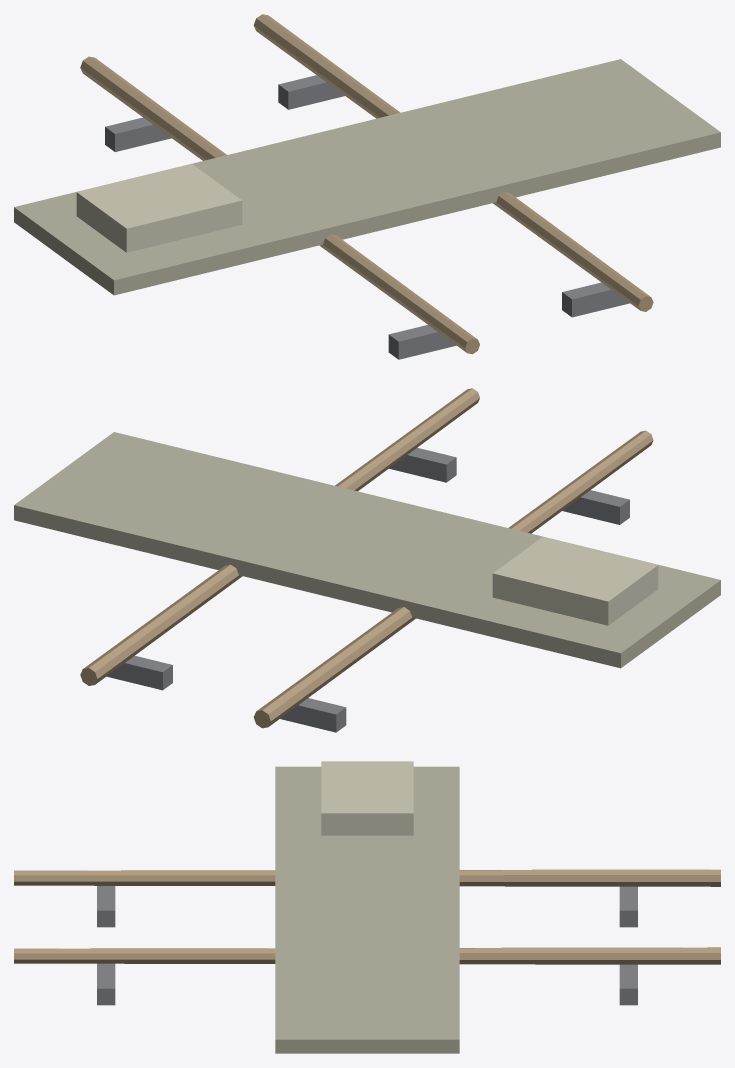
The model's file is armoured-column-and-field-camp-stretcher-8782668f__23727.glb.
3 renders of one model, top to bottom at view 1: azimuth 30°, elevation 25°; view 2: azimuth 150°, elevation 25°; view 3: azimuth 270°, elevation 25°, orthographic. The views are drawn at different scales.
Visible parts, largest first — view 1: stretcher; view 2: stretcher; view 3: stretcher.
Boxes of the visible parts, x1=… form: stretcher: x1=14, y1=14, x2=720, y2=359; stretcher: x1=14, y1=388, x2=720, y2=732; stretcher: x1=14, y1=761, x2=720, y2=1053.
Size of the model in its own units: 2.1 by 0.26 by 2.3.
